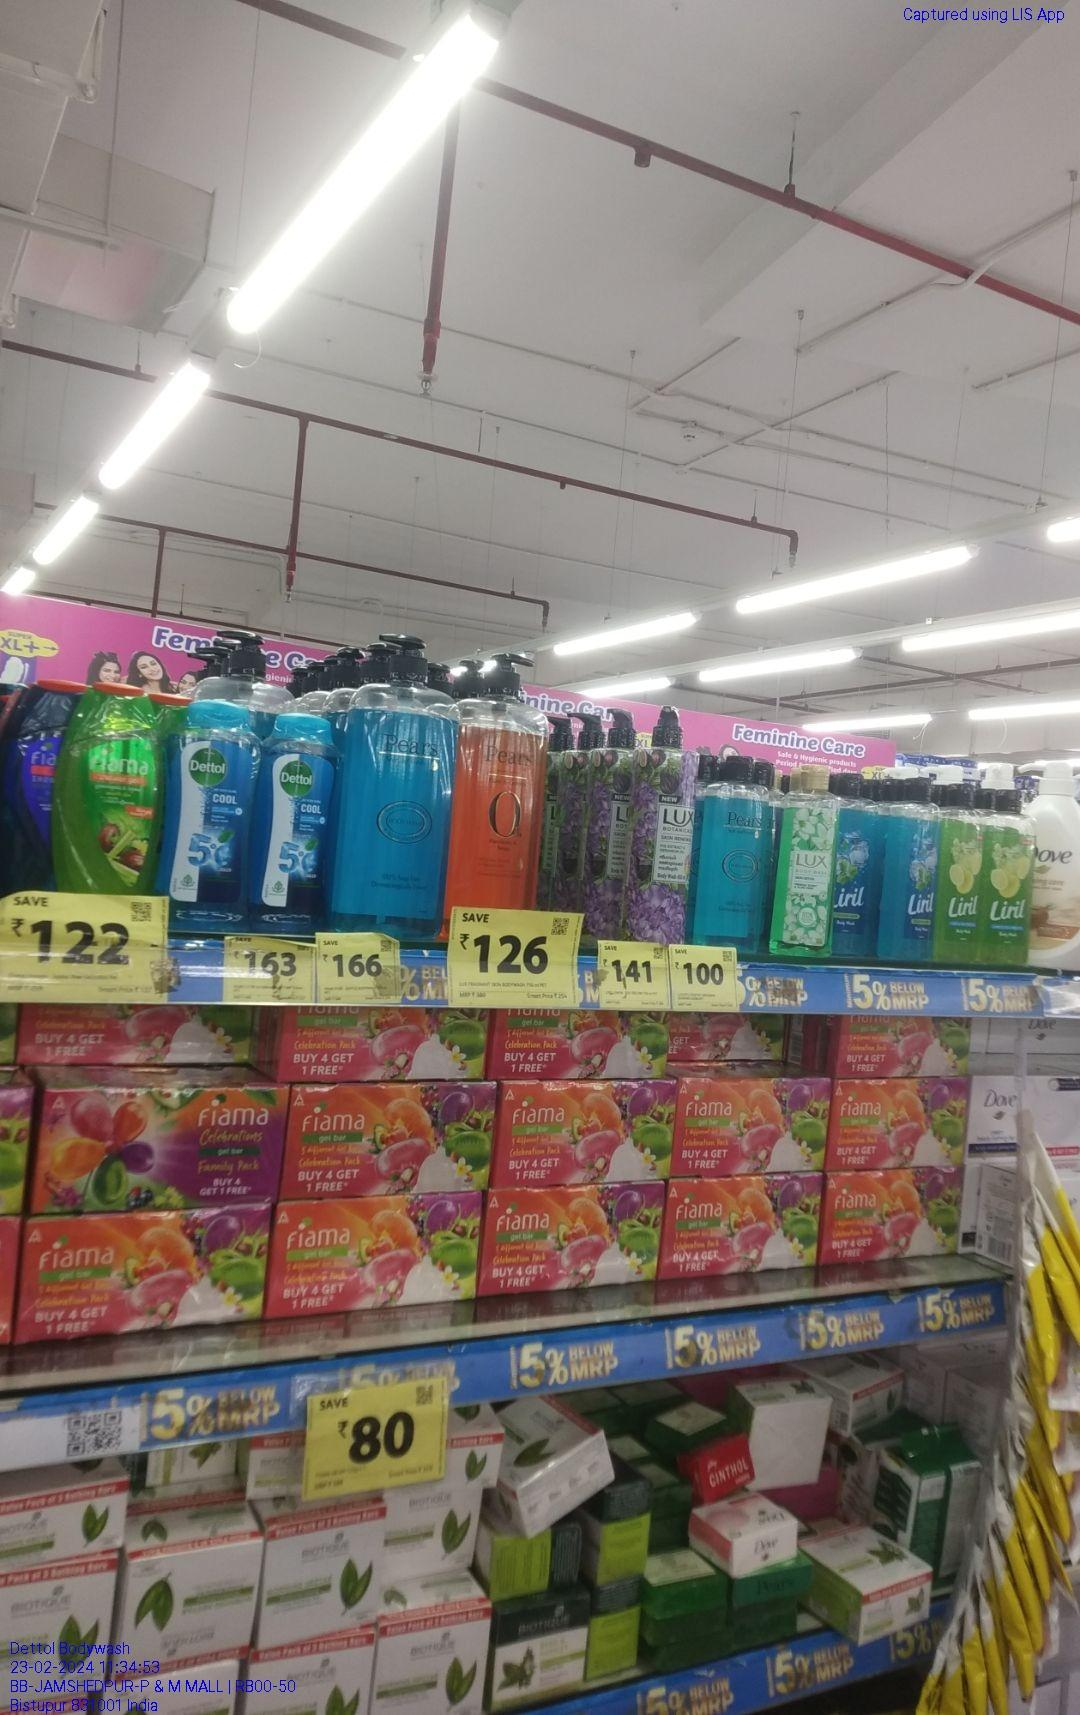Dettol_Bodywash_Cool: (169, 696, 250, 934), (259, 714, 328, 933)
Fiama_Shower_Gel_Lemongrass_and_Jojoba_250ML: (57, 684, 162, 897)
Lux_Body_Wash_Skin_Detox_Freesia_Scent_and_Alove_Vera_245ML: (766, 765, 836, 959)
